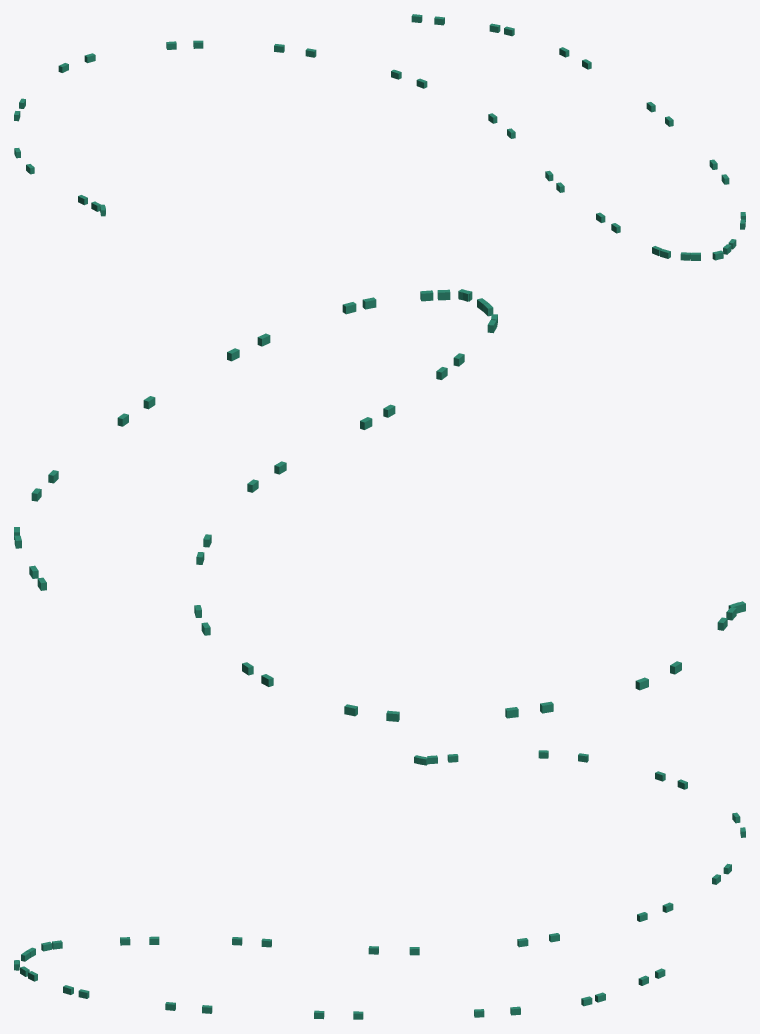
File: SM_DK_04_Safety_barriers_and_perimeter_fence_green.fbx
3 views of the same model, one above another, from view 1: azimuth 30°, elevation 25°; view 2: azimuth 150°, elevation 25°; view 3: azimuth 270°, elevation 25° (orthographic). The views are drawn at different scales.
Visible parts, largest first — view 1: 04 Safety barriers and perimeter fence | green; view 2: 04 Safety barriers and perimeter fence | green; view 3: 04 Safety barriers and perimeter fence | green.
Boxes of the visible parts, x1,y1,x2,y2 form: 04 Safety barriers and perimeter fence | green: (14, 14, 745, 260); 04 Safety barriers and perimeter fence | green: (14, 289, 745, 721); 04 Safety barriers and perimeter fence | green: (14, 750, 745, 1019).
Bounding box in the file's own units: 8256 × 9697 × 90.
